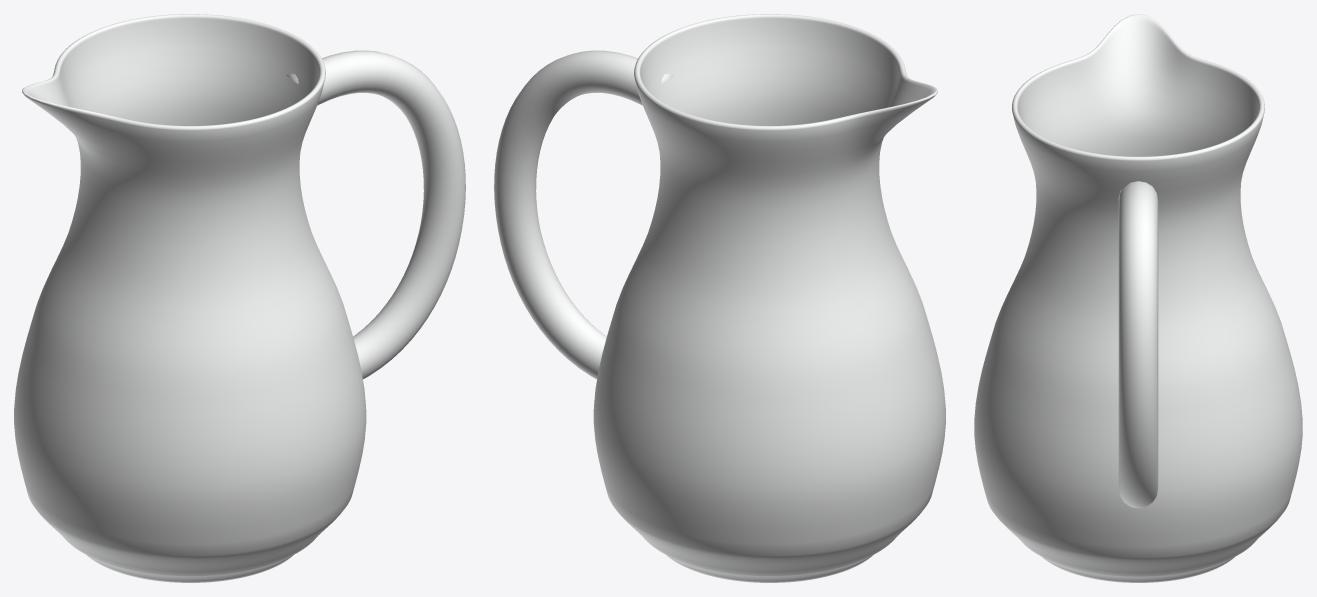
Rendered from jarra_agua.gltf.
3 renders of one model, left to right at view 1: azimuth 30°, elevation 25°; view 2: azimuth 150°, elevation 25°; view 3: azimuth 270°, elevation 25°, orthographic. The views are drawn at different scales.
Parts seen in each view (by area): view 1: vidrio_jarra, asa_vidrio; view 2: vidrio_jarra, asa_vidrio; view 3: vidrio_jarra, asa_vidrio.
Boxes of the visible parts, <box> form: vidrio_jarra: <box>14,14,366,582</box>; asa_vidrio: <box>286,50,465,379</box>; vidrio_jarra: <box>593,14,945,582</box>; asa_vidrio: <box>494,50,673,379</box>; vidrio_jarra: <box>974,14,1302,582</box>; asa_vidrio: <box>1118,181,1158,508</box>.
Size of the model in its own units: 0.2389 by 0.2502 by 0.166.
2 materials, 2 textured.
